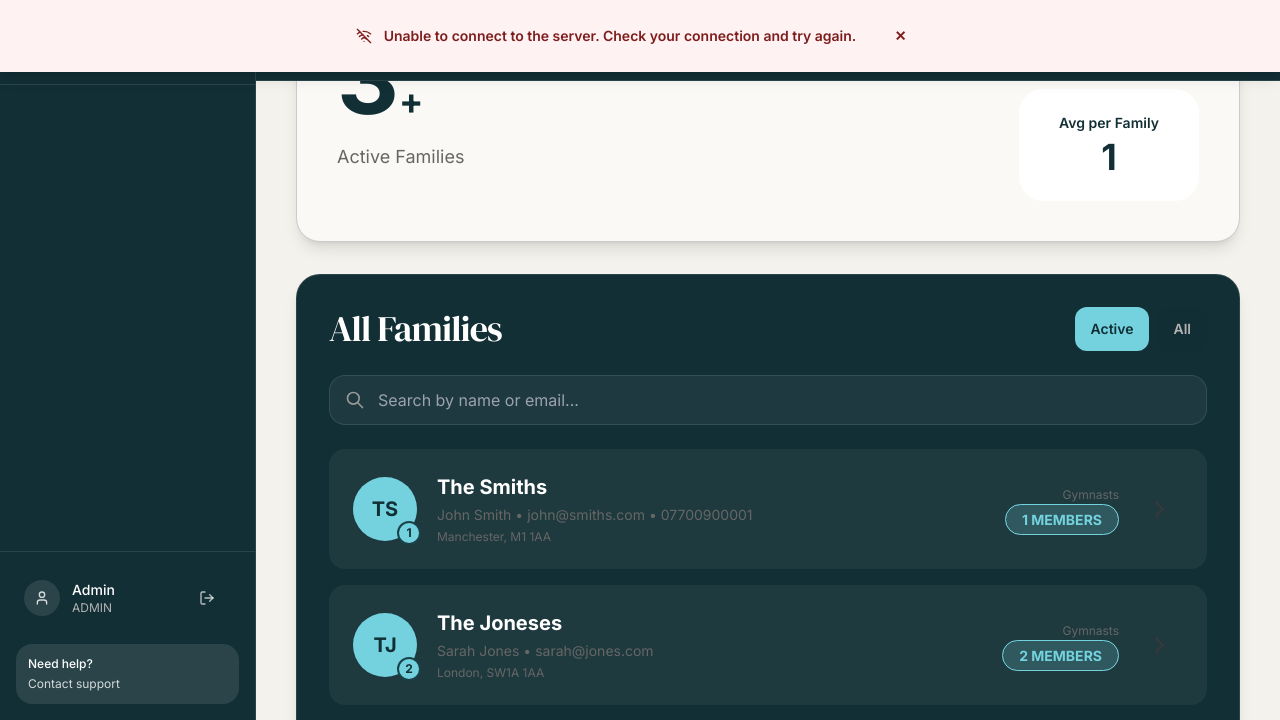
it: FamiliesPage › filters families by search query
(page scrolled)
Expected: the heading "The Smiths" is shown, [437,475,547,499]
Step 1. Type "Jones" into the field with placeholder "Search by name or email..." → (768, 400), box [329,375,1207,425]
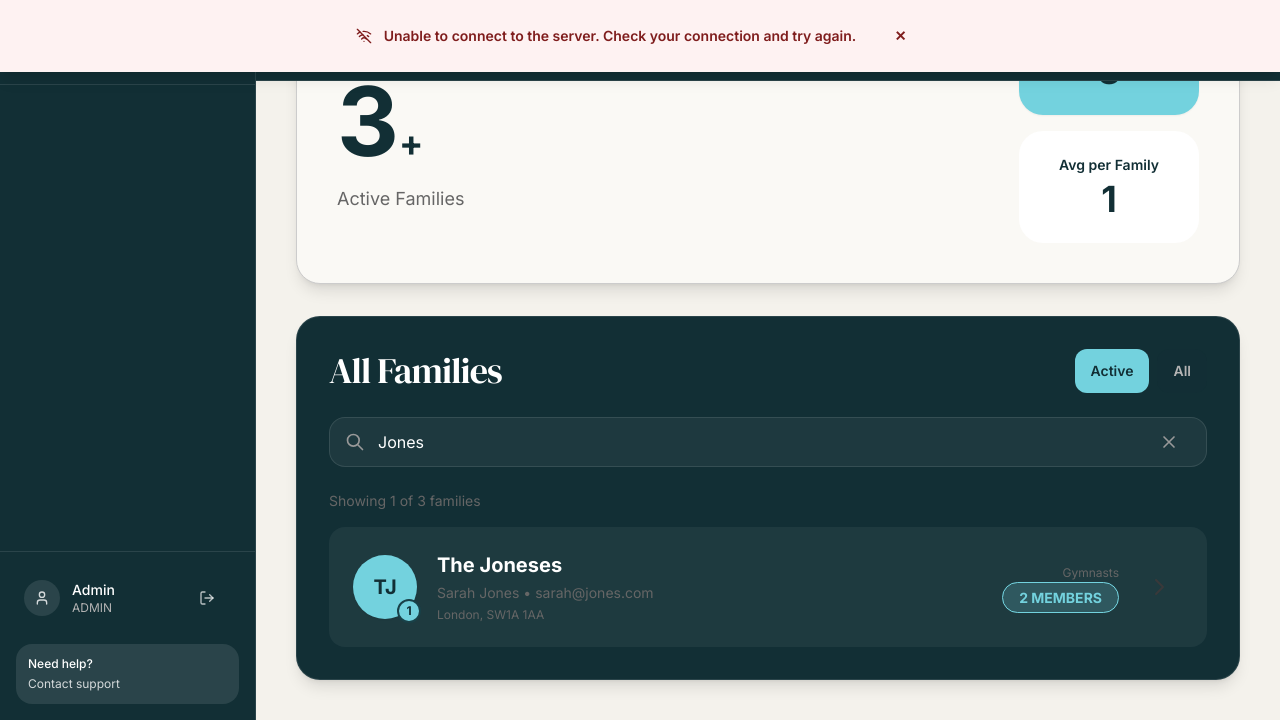
Expected: the heading "The Joneses" is shown, [437,553,562,577]
Expected: the link "The Smiths" is gone
